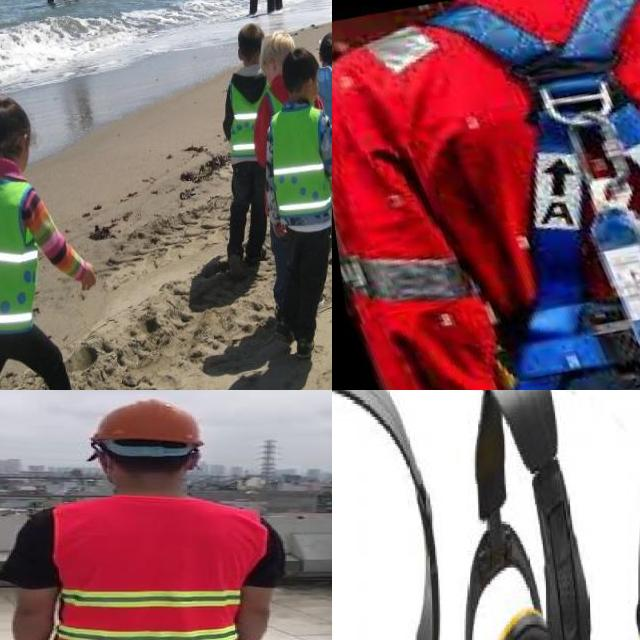Ear-protection: (462, 390, 602, 640), (332, 390, 454, 640)
Harness: (430, 0, 640, 390)
head_helmet: (90, 399, 208, 447)
person: (0, 397, 289, 640)
vest: (53, 496, 265, 640), (272, 100, 330, 220), (0, 176, 41, 321), (222, 70, 266, 158)
